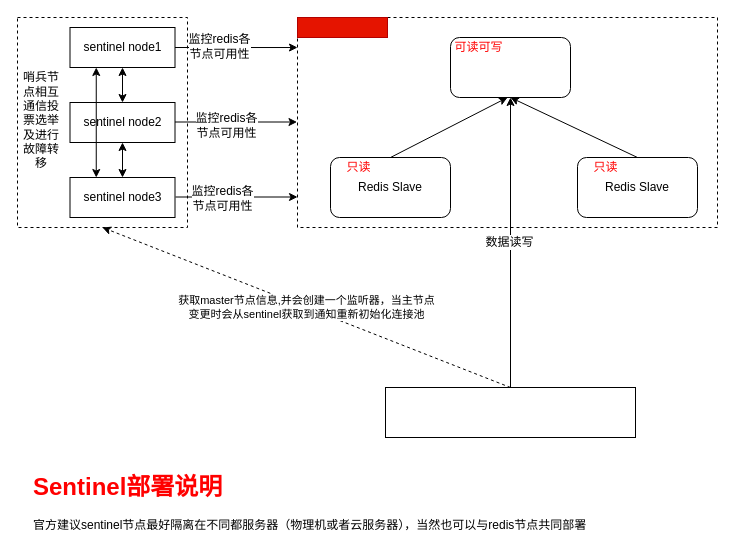
Image size: 735x555. Some labels were removed from this diagram. Here are the shapes that lost their labels. From the top down, the box of each, then its label:
(296, 16, 388, 38): redis-replication
(450, 36, 570, 98): Redis Master
(384, 386, 636, 438): jedis client
